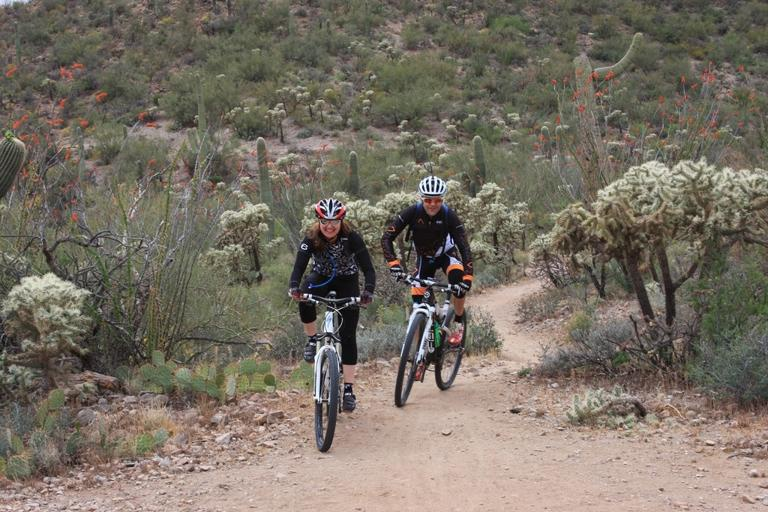non-vehicle: (290, 290, 374, 452), (390, 270, 467, 406)
